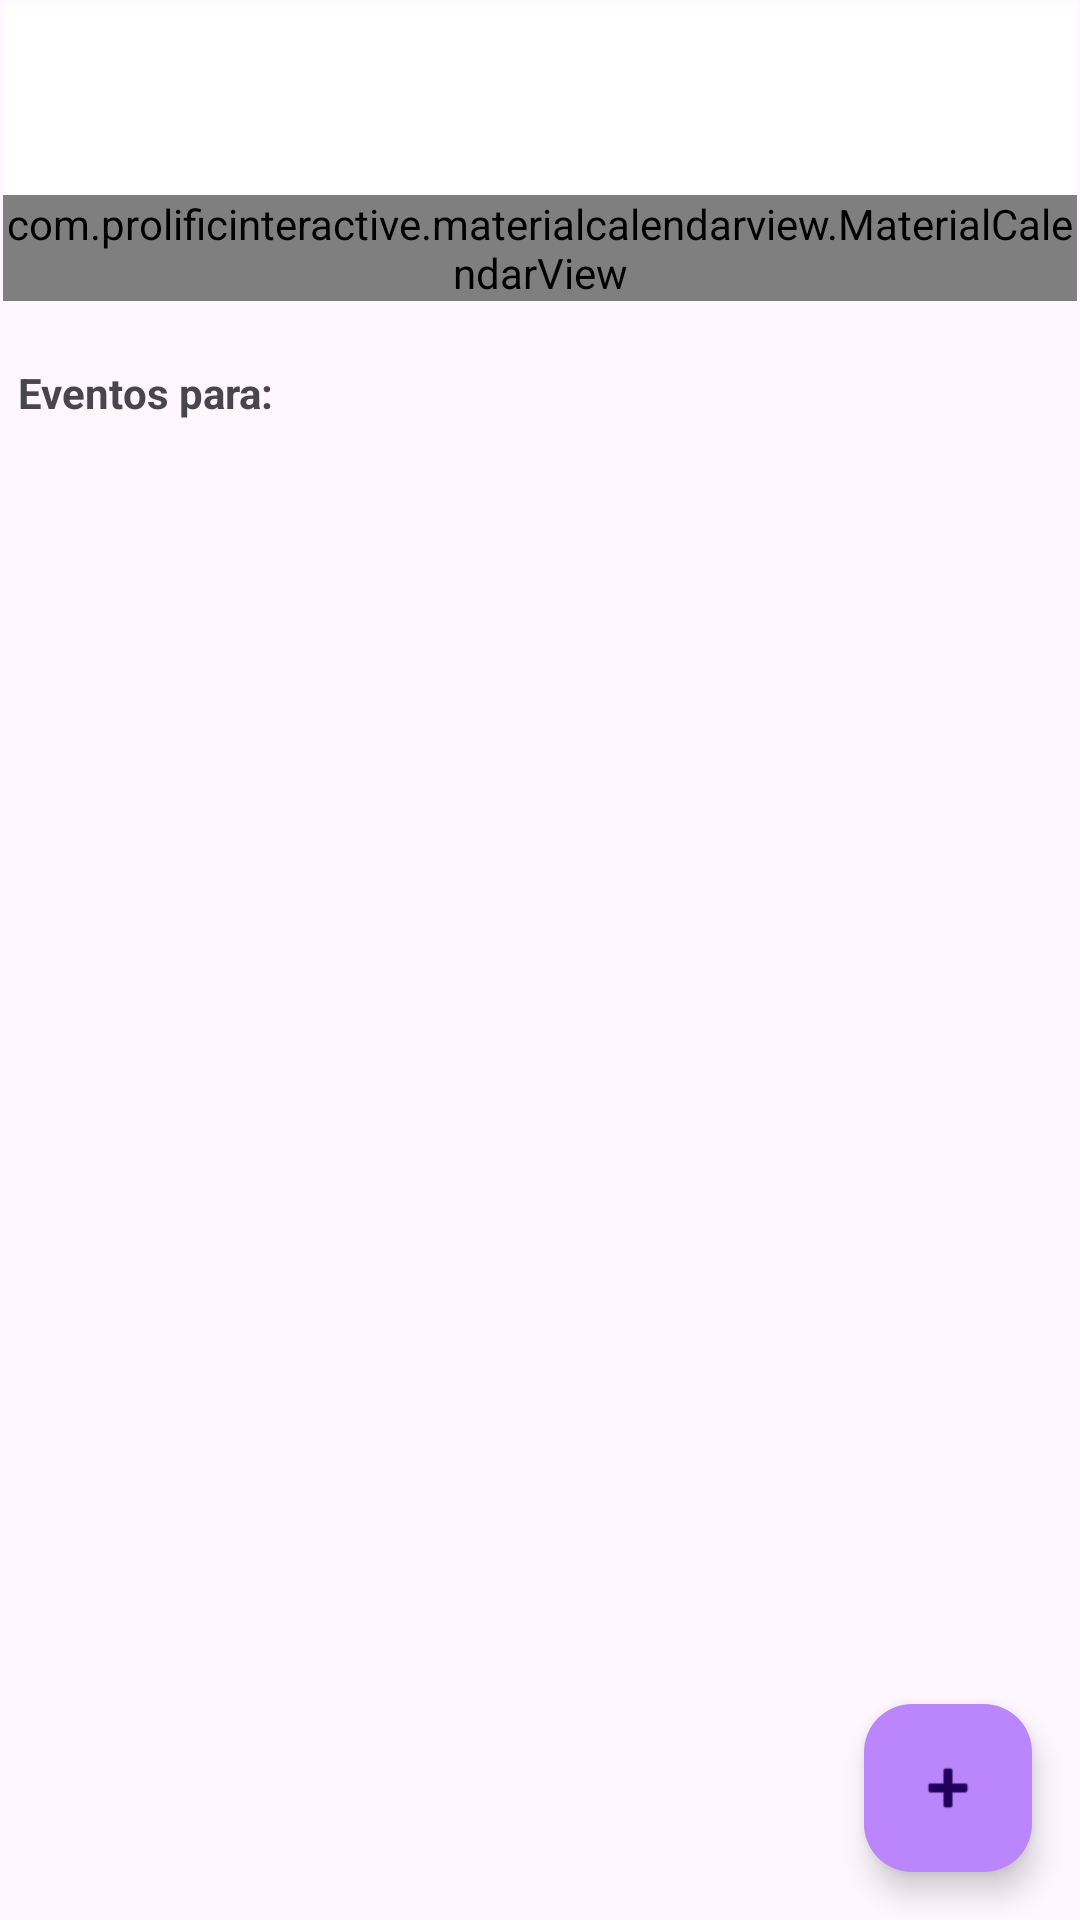

Screen size 1080 x 1920. Icon name, then its box in pixels as (x1, y1, x2, y2):
Agregar evento: (864, 1704, 1032, 1872)
